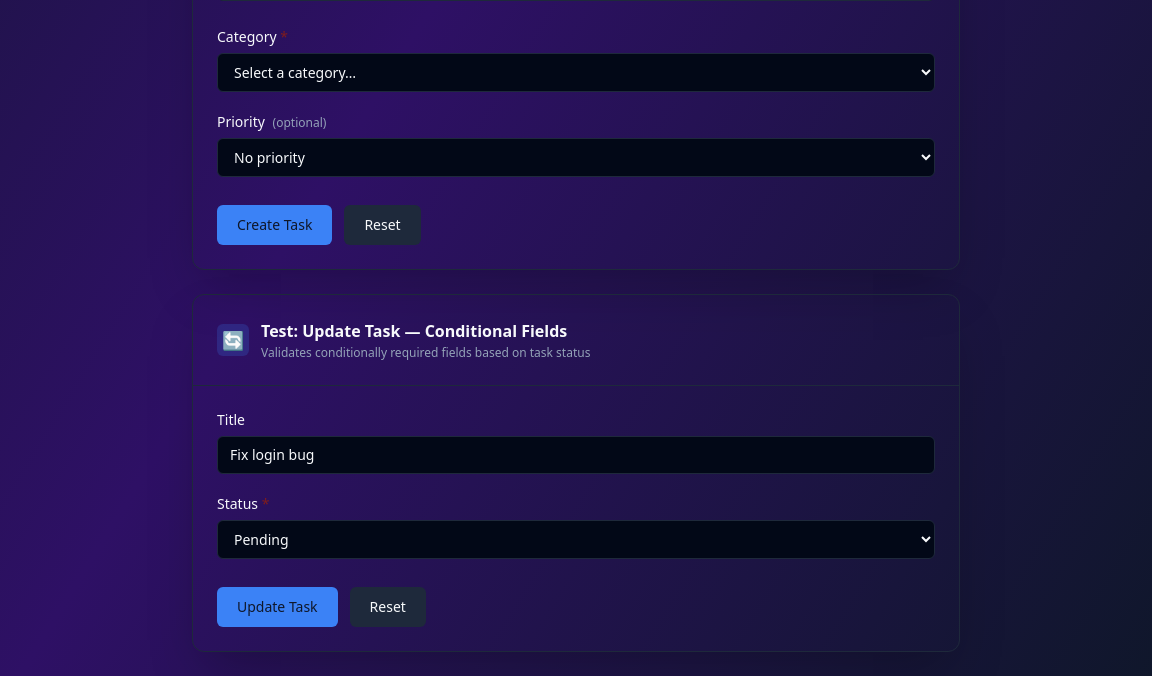
Test: Update Task — Conditional Fields › allows submit when status is not blocked (no blocked reason needed)
(page scrolled)
Select "In Progress" in the dropdown with id "update-status" at (576,540), box [217, 520, 935, 559]
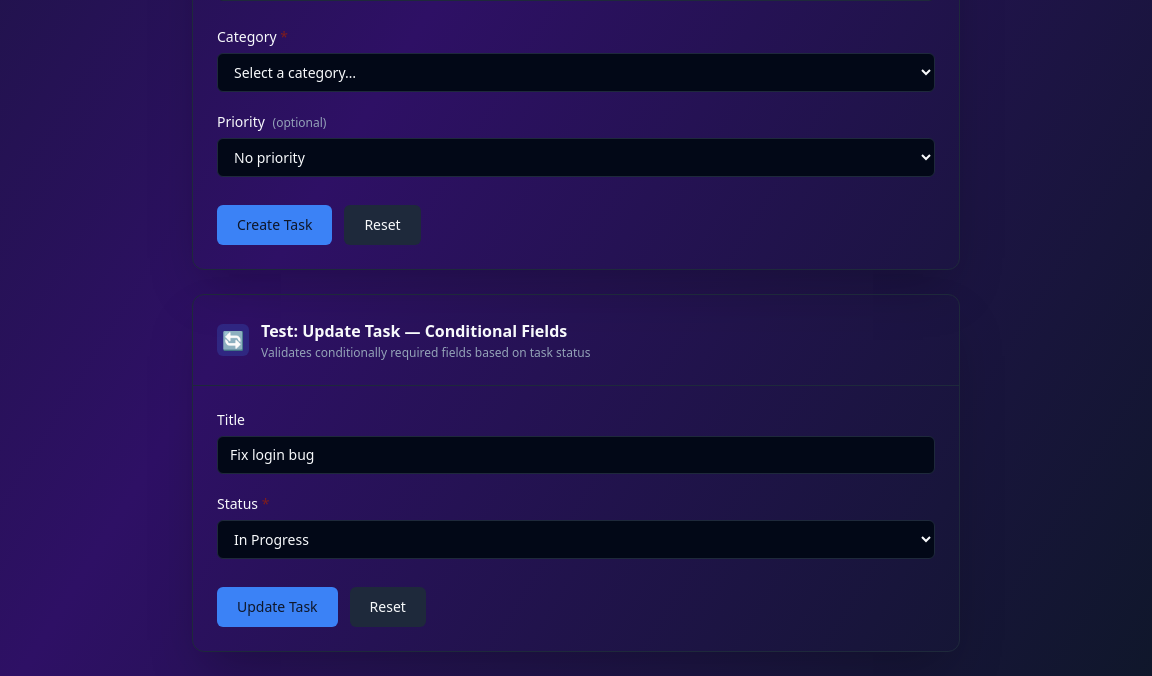
Submit the form with id "update-form", box [217, 410, 935, 627]
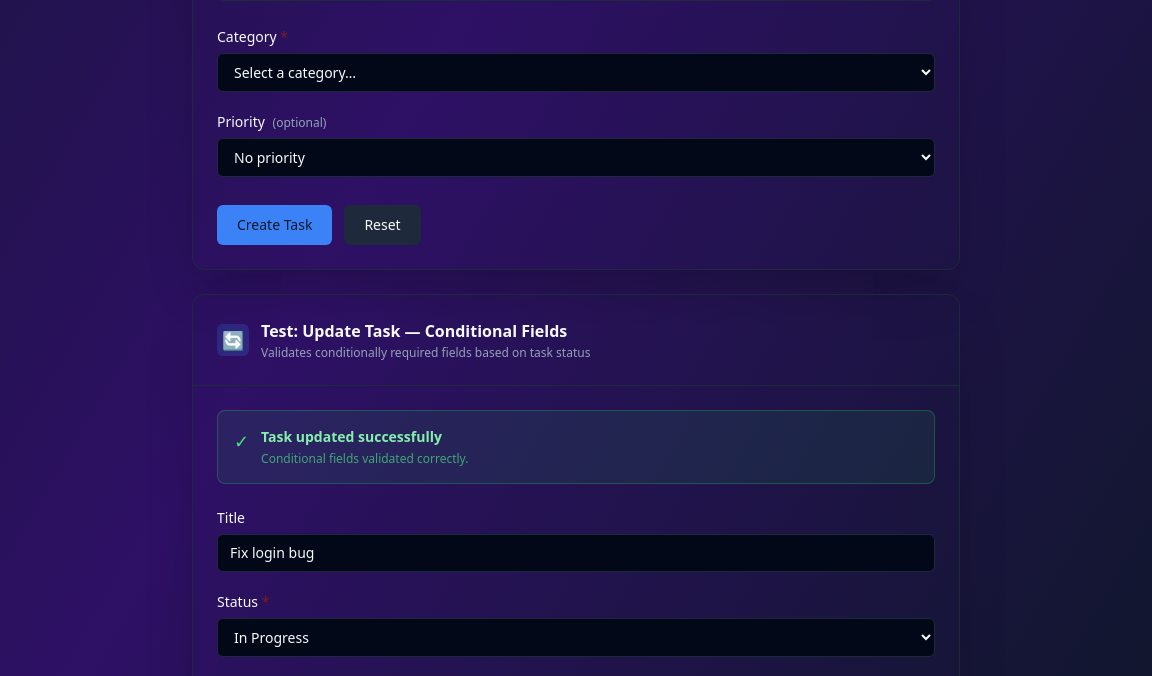
Result: the text "Task updated successfully" is shown at [261, 427, 468, 447]
